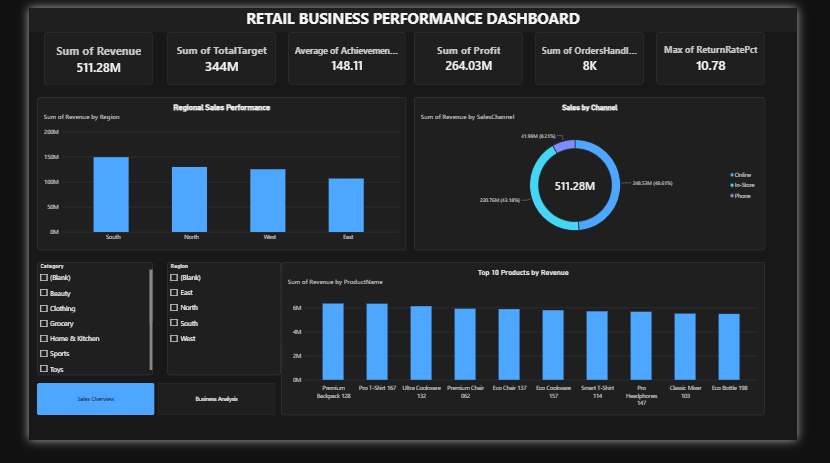

The page's visual inventory and layout, read from the dashboard file:
{"tool":"powerbi","page":{"name":"Sales Overview","canvas":[1920,1080],"ordinal":0},"visuals":[{"type":"textbox","box":[0,0,1920,60.5],"z":0},{"type":"cardVisual","fields":{"Data":["Sum(q4_region_performance.Revenue)"]},"box":[37.5,60,272.1,133.5],"z":1000},{"type":"cardVisual","fields":{"Data":["Sum(q19_target_performance.TotalTarget)"]},"box":[345,60,272.7,132.2],"z":2000},{"type":"cardVisual","fields":{"Data":["Avg(q19_target_performance.AchievementPct)"]},"box":[647.3,60.6,294.7,132.2],"z":3000},{"type":"cardVisual","fields":{"Data":["Sum(q8_employee_performance.Profit)"]},"box":[961.4,60.6,272.7,132.2],"z":4000},{"type":"cardVisual","fields":{"Data":["Sum(q8_employee_performance.OrdersHandled)"]},"box":[1264.4,60.6,272.7,132.2],"z":5000},{"type":"cardVisual","fields":{"Data":["Max(q18_return_rate_region.ReturnRatePct)"]},"box":[1567.4,60.6,272.7,132.2],"z":6000},{"type":"clusteredColumnChart","title":"Regional Sales Performance","fields":{"Category":["q4_region_performance.Region"],"Y":["Sum(q4_region_performance.Revenue)"]},"box":[20,222.5,922.5,382.5],"z":7000},{"type":"clusteredColumnChart","title":"Top 10 Products by Revenue","fields":{"Category":["q5_top_products.ProductName"],"Y":["Sum(q5_top_products.Revenue)"]},"box":[630,635,1210,382.5],"z":8000},{"type":"donutChart","title":"Sales by Channel","fields":{"Category":["q16_sales_channels.SalesChannel"],"Y":["Sum(q16_sales_channels.Revenue)"]},"box":[962.5,222.5,877.5,382.5],"z":9000},{"type":"slicer","fields":{"Values":["q5_top_products.Category"]},"box":[20,635,290,282.5],"z":11000},{"type":"slicer","fields":{"Values":["q4_region_performance.Region"]},"box":[345,635,285,282.5],"z":11001},{"type":"pageNavigator","box":[20,937.5,597.5,80],"z":11002}]}

Visuals, with their boxes in screenshot pixels (x1, y1, x2, y2), scaled from the page's 1920x1080 canvas onto the 830x463 screenshot:
textbox: 0/0/829/26
cardVisual - Sum(q4_region_performance.Revenue): 16/26/134/83
cardVisual - Sum(q19_target_performance.TotalTarget): 149/26/267/82
cardVisual - Avg(q19_target_performance.AchievementPct): 280/26/407/83
cardVisual - Sum(q8_employee_performance.Profit): 416/26/533/83
cardVisual - Sum(q8_employee_performance.OrdersHandled): 547/26/664/83
cardVisual - Max(q18_return_rate_region.ReturnRatePct): 678/26/795/83
"Regional Sales Performance" clusteredColumnChart: 9/95/407/259
"Top 10 Products by Revenue" clusteredColumnChart: 272/272/795/436
"Sales by Channel" donutChart: 416/95/795/259
slicer - q5_top_products.Category: 9/272/134/393
slicer - q4_region_performance.Region: 149/272/272/393
pageNavigator: 9/402/267/436
